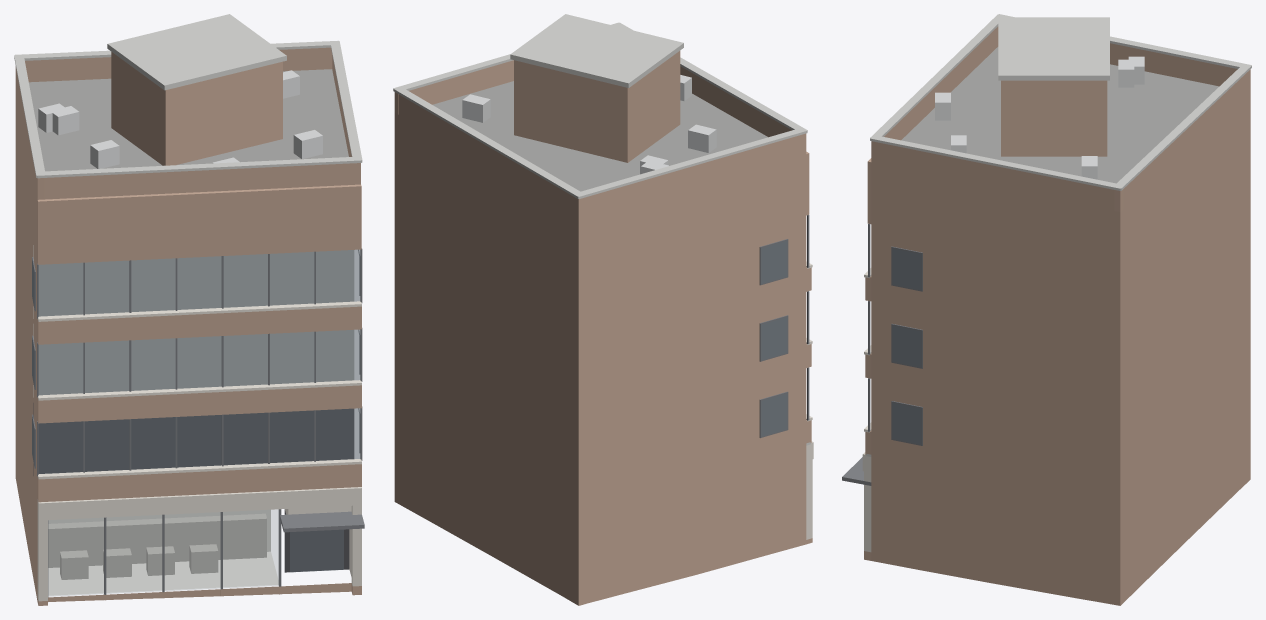
The model's file is d29-nagasaki-inferred.glb.
3 renders of one model, left to right at view 1: azimuth 30°, elevation 25°; view 2: azimuth 150°, elevation 25°; view 3: azimuth 270°, elevation 25°, orthographic. The views are drawn at different scales.
Visible parts, largest first — view 1: INFERRED_D29_exact_wall_0, INFERRED_facade.001, INFERRED_D29_exact_interior_3, INFERRED_D29_exact_wall_2, INFERRED_ground.001, INFERRED_roof.001, INFERRED_D29_exact_wall_5, INFERRED_D29_exact_wall_1; view 2: INFERRED_D29_exact_wall_0, INFERRED_D29_exact_wall_5, INFERRED_roof.001, INFERRED_D29_exact_wall_1, INFERRED_body.001, INFERRED_D29_exact_wall_2; view 3: INFERRED_D29_exact_wall_0, INFERRED_roof.001, INFERRED_D29_exact_wall_5, INFERRED_D29_exact_wall_1, INFERRED_body.001, INFERRED_D29_exact_wall_2.
Part boxes in pixels (box(x1,y1,x2,y2)): INFERRED_D29_exact_wall_0: box(15, 47, 361, 605); INFERRED_facade.001: box(38, 249, 360, 473); INFERRED_D29_exact_interior_3: box(33, 245, 354, 595); INFERRED_D29_exact_wall_2: box(33, 301, 361, 601); INFERRED_ground.001: box(48, 509, 343, 596); INFERRED_roof.001: box(29, 69, 348, 171); INFERRED_D29_exact_wall_5: box(14, 14, 362, 502); INFERRED_D29_exact_wall_1: box(32, 248, 364, 597); INFERRED_D29_exact_wall_0: box(394, 51, 812, 605); INFERRED_D29_exact_wall_5: box(393, 14, 810, 445); INFERRED_roof.001: box(432, 75, 767, 191); INFERRED_D29_exact_wall_1: box(759, 215, 809, 437); INFERRED_body.001: box(761, 241, 787, 436); INFERRED_D29_exact_wall_2: box(806, 261, 813, 539); INFERRED_D29_exact_wall_0: box(864, 26, 1250, 605); INFERRED_roof.001: box(901, 47, 1219, 183); INFERRED_D29_exact_wall_5: box(866, 14, 1251, 456); INFERRED_D29_exact_wall_1: box(842, 223, 922, 485); INFERRED_body.001: box(892, 248, 921, 444); INFERRED_D29_exact_wall_2: box(862, 268, 871, 552).
Size of the model in its own units: 15.61 by 19.93 by 15.4.
